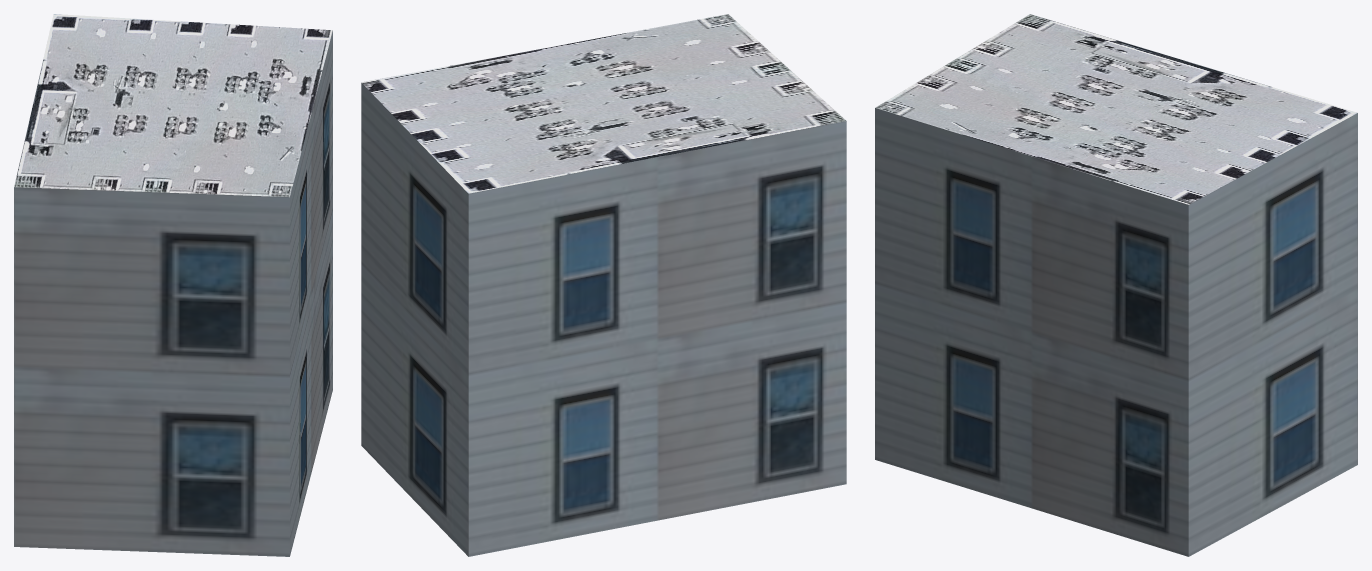
File: ResTex__3221.fbx
The picture shows the model from 3 angles, left to right: view 1: azimuth 30°, elevation 25°; view 2: azimuth 150°, elevation 25°; view 3: azimuth 270°, elevation 25°; orthographic projection. The views are drawn at different scales.
Visible parts, largest first — view 1: CityEngineMaterial_18_m, CityEngineMaterial_4_m; view 2: CityEngineMaterial_18_m, CityEngineMaterial_4_m; view 3: CityEngineMaterial_18_m, CityEngineMaterial_4_m.
Part boxes in pixels (x1,y1,x2,y2): CityEngineMaterial_18_m: (14, 31, 332, 556); CityEngineMaterial_4_m: (14, 14, 332, 197); CityEngineMaterial_18_m: (361, 83, 846, 556); CityEngineMaterial_4_m: (361, 14, 846, 193); CityEngineMaterial_18_m: (875, 108, 1357, 556); CityEngineMaterial_4_m: (875, 14, 1357, 204).
Bounding box in the file's own units: 6.98 × 6 × 7.46.
2 materials, 2 textured.
